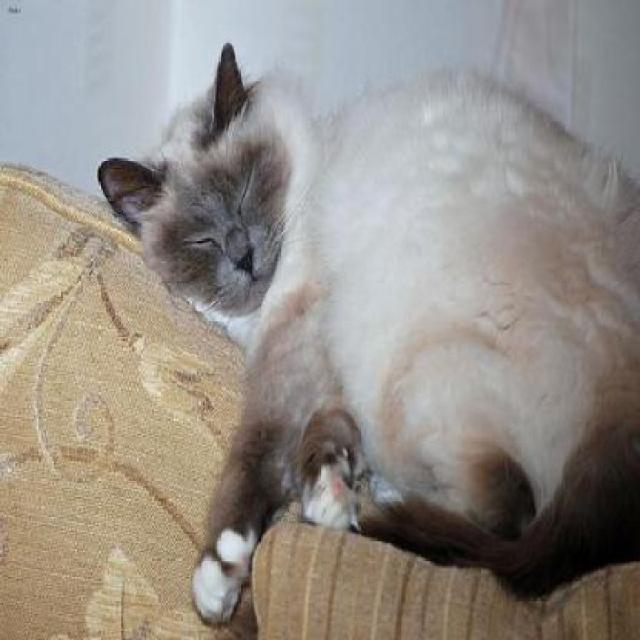cat: (97, 42, 638, 627)
